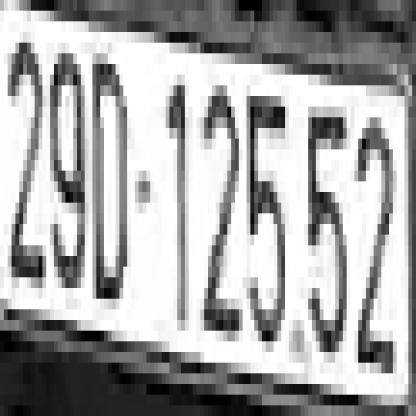1: (162, 75, 192, 309)
2: (354, 128, 393, 363), (8, 43, 42, 277), (204, 96, 239, 320)
5: (243, 96, 281, 341), (304, 118, 343, 341)
9: (50, 64, 89, 288)
D: (89, 64, 127, 288)
